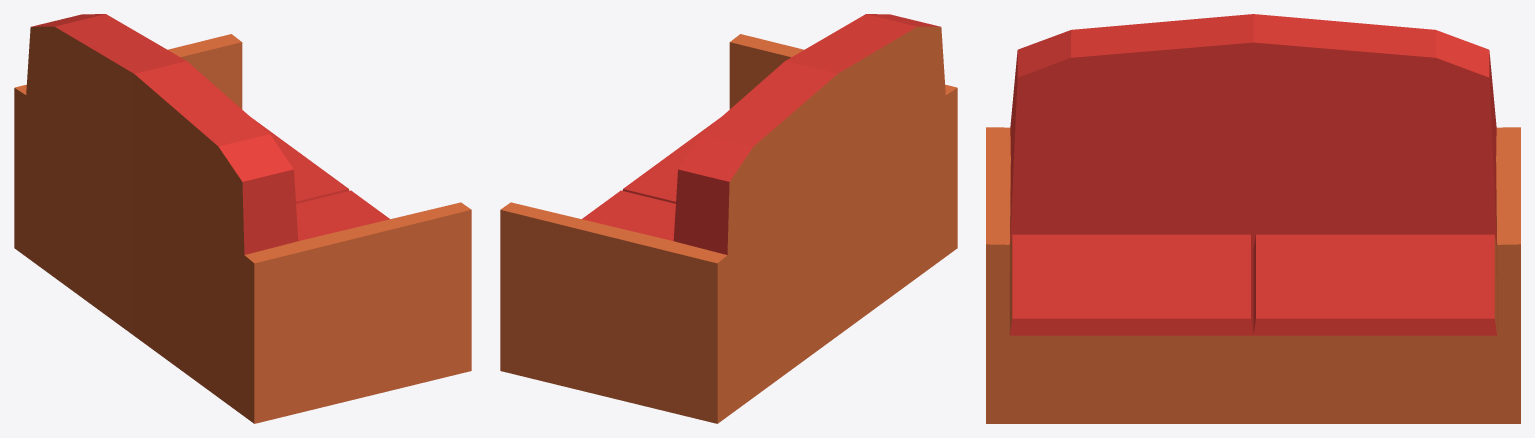
File: Sofa.fbx
The picture shows the model from 3 angles, left to right: view 1: azimuth 30°, elevation 25°; view 2: azimuth 150°, elevation 25°; view 3: azimuth 270°, elevation 25°; orthographic projection. The views are drawn at different scales.
Visible parts, largest first — view 1: Cube; view 2: Cube; view 3: Cube.
Boxes of the visible parts, x1,y1,x2,y2 form: Cube: (14, 14, 471, 423); Cube: (500, 14, 957, 423); Cube: (986, 14, 1520, 423).
Size of the model in its own units: 242 by 279 by 464.
